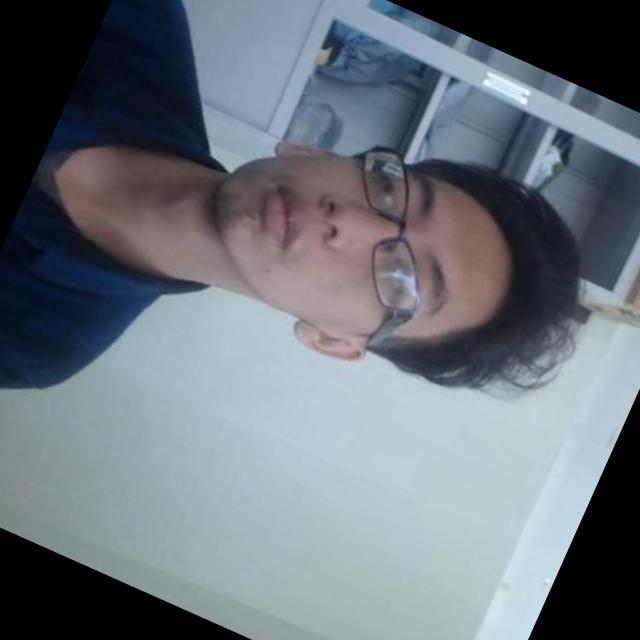bareface: (128, 18, 626, 477)
